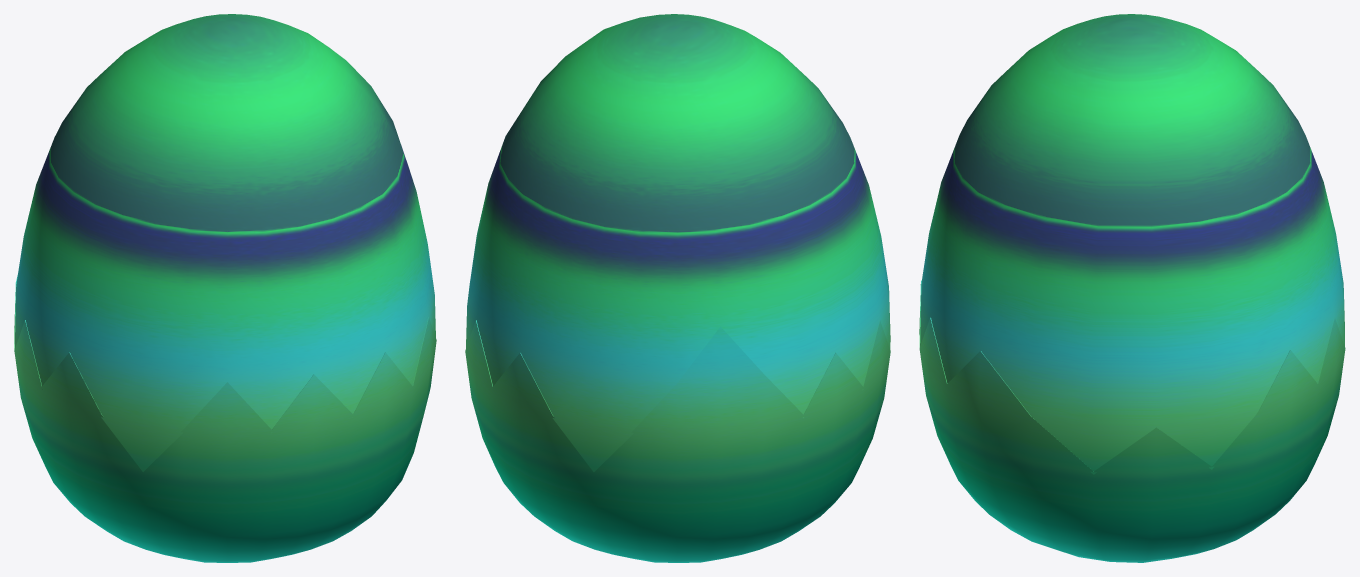
Rendered from egg_Broken.fbx.
3 renders of one model, left to right at view 1: azimuth 30°, elevation 25°; view 2: azimuth 150°, elevation 25°; view 3: azimuth 270°, elevation 25°, orthographic.
Parts seen in each view (by area): view 1: polySurface4, polySurface3; view 2: polySurface4, polySurface3; view 3: polySurface4, polySurface3.
Boxes of the visible parts, box(x1,y1,x2,y2) form: polySurface4: box(14, 14, 435, 471); polySurface3: box(14, 274, 436, 562); polySurface4: box(466, 14, 890, 471); polySurface3: box(465, 320, 890, 562); polySurface4: box(920, 14, 1344, 474); polySurface3: box(919, 280, 1345, 562).
Bounding box in the file's own units: 0.4679 × 0.6153 × 0.4705.
